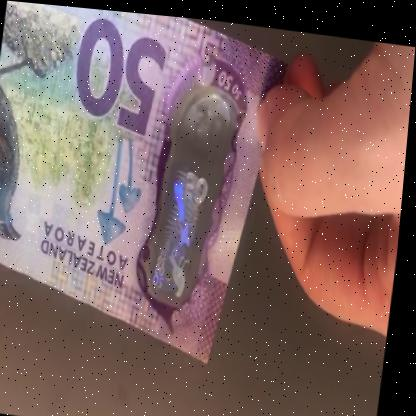50B: (154, 87, 235, 302)
